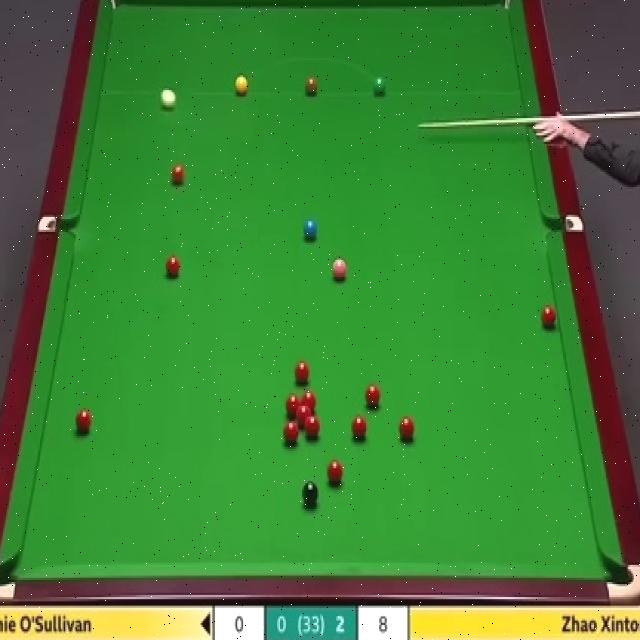black-ball: (302, 479, 320, 508)
blue-ball: (302, 218, 318, 242)
brown-ball: (305, 75, 318, 96)
green-ball: (372, 75, 386, 96)
pink-ball: (329, 258, 350, 288)
red-ball: (540, 303, 559, 334), (326, 457, 346, 486), (74, 408, 92, 434), (364, 382, 382, 408), (398, 417, 416, 443), (164, 256, 182, 280), (350, 416, 367, 441), (171, 164, 187, 190), (300, 391, 318, 412), (304, 417, 320, 440), (294, 362, 310, 385), (283, 422, 299, 444), (285, 397, 301, 418), (296, 406, 311, 424)
white-ball: (160, 82, 179, 109)
yellow-ball: (235, 76, 248, 96)
